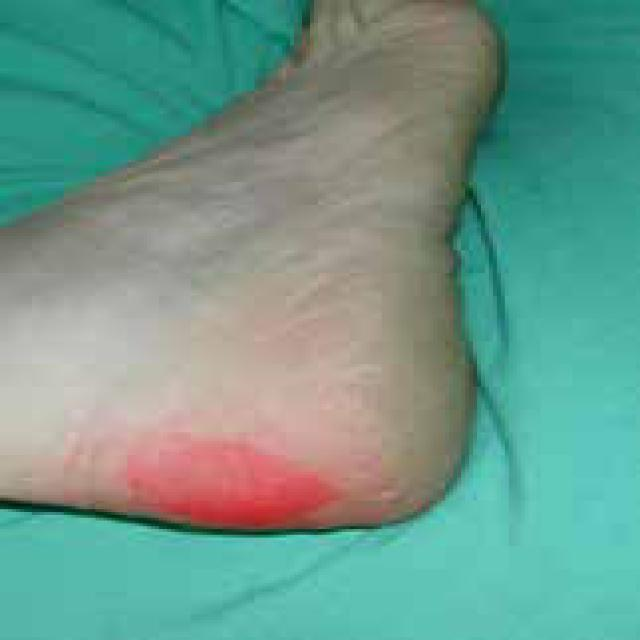stage-1: (133, 436, 339, 523)
